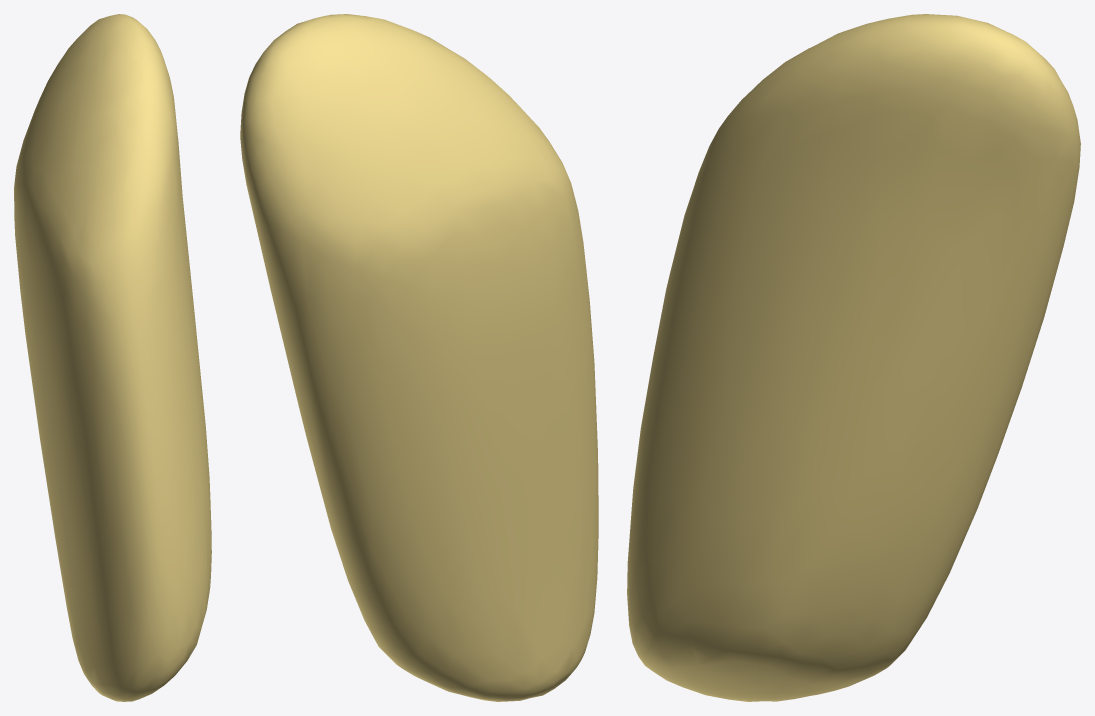
The model's file is fma73328_fj7492.glb.
3 renders of one model, left to right at view 1: azimuth 30°, elevation 25°; view 2: azimuth 150°, elevation 25°; view 3: azimuth 270°, elevation 25°, orthographic. The views are drawn at different scales.
Visible parts, largest first — view 1: FMA73328_FJ7492; view 2: FMA73328_FJ7492; view 3: FMA73328_FJ7492.
Boxes of the visible parts, x1,y1,x2,y2 form: FMA73328_FJ7492: (14, 14, 211, 701); FMA73328_FJ7492: (240, 14, 598, 701); FMA73328_FJ7492: (627, 14, 1080, 701).
Size of the model in its own units: 0.00233 by 0.00779 by 0.00433.
